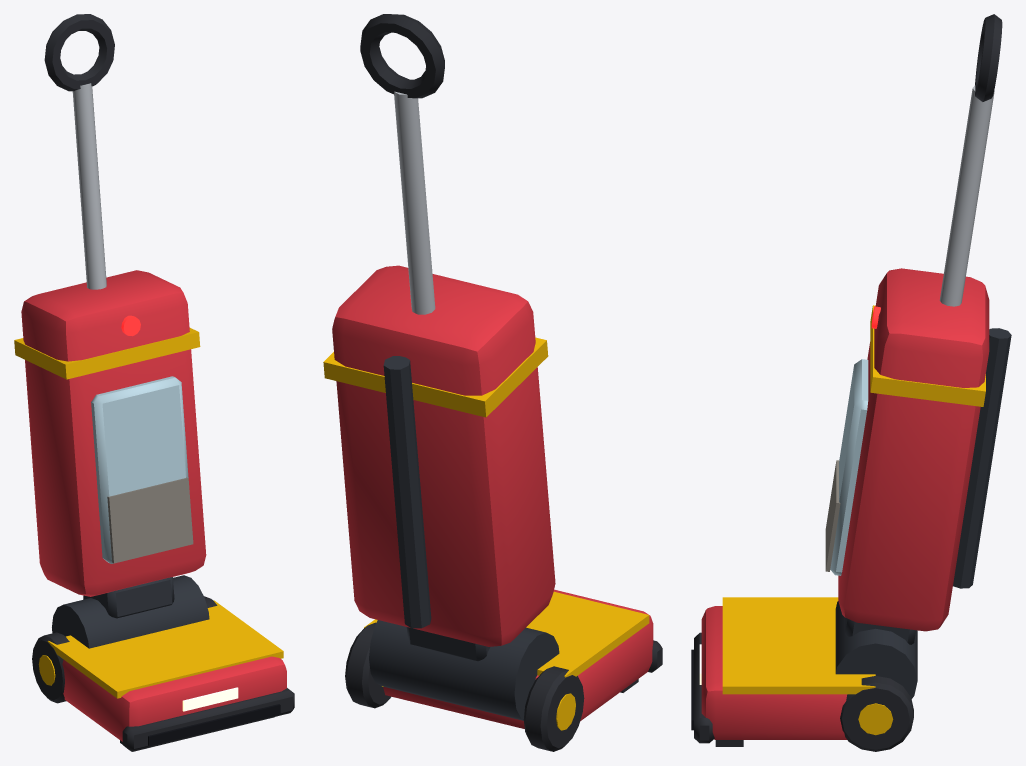
Rendered from upright_vacuum.glb.
3 views of the same model, side by side, from view 1: azimuth 30°, elevation 25°; view 2: azimuth 150°, elevation 25°; view 3: azimuth 270°, elevation 25° (orthographic). The views are drawn at different scales.
Parts seen in each view (by area): view 1: body; view 2: body; view 3: body.
Boxes of the visible parts, left/top/right/bottom form: body: left=14, top=14, right=294, bottom=751; body: left=323, top=14, right=662, bottom=751; body: left=691, top=14, right=1011, bottom=751.
Size of the model in its own units: 30.8 by 109 by 46.02.
